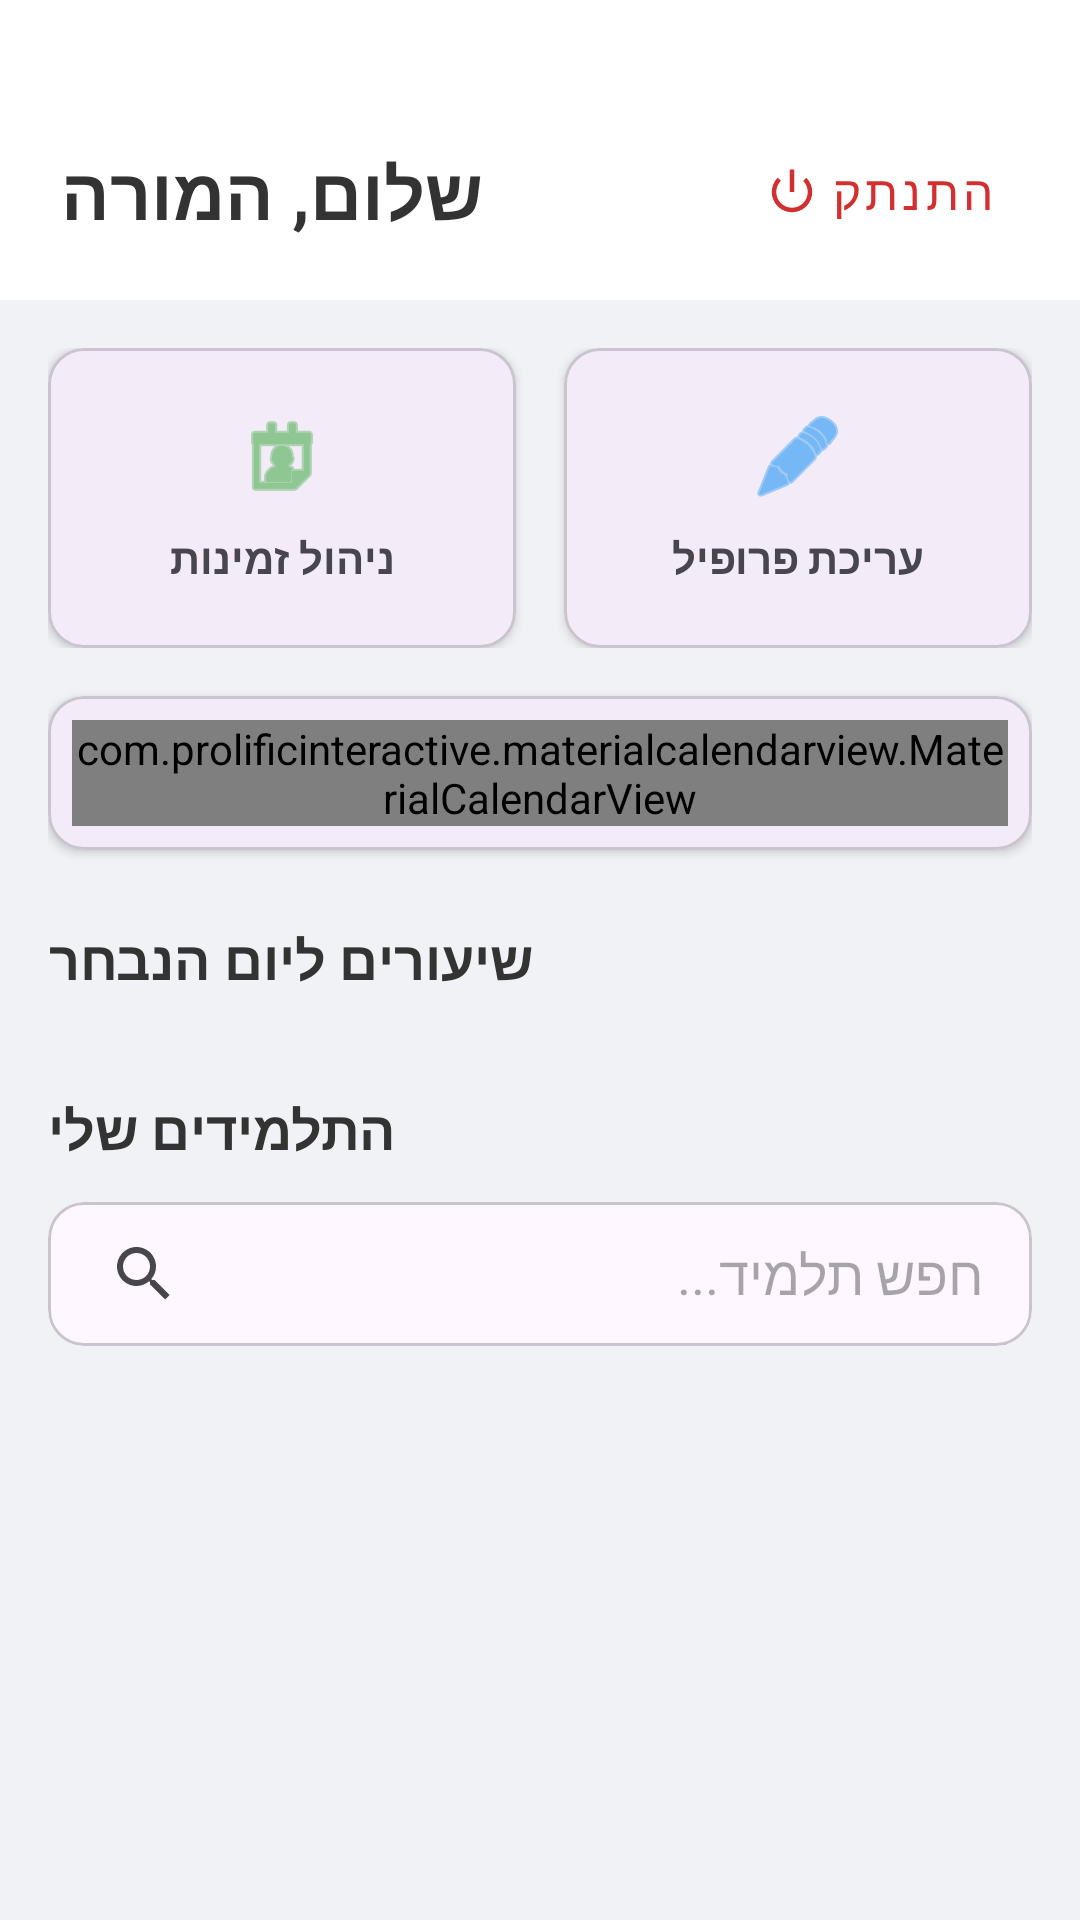

Icon click points for this 1080 x 1920 phone screenshot, format [x,y]:
calendar: [282,456]
edit: [797,456]
